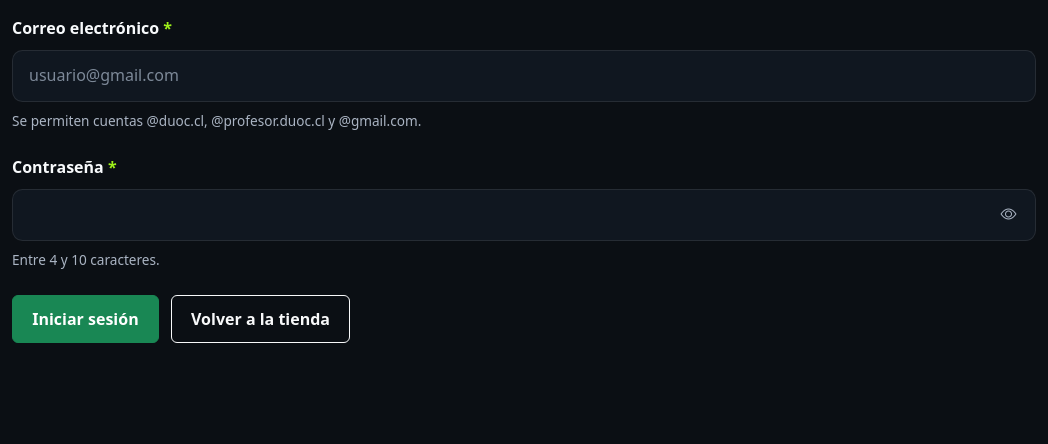
Test case: LoginForm › deshabilita el envío mientras se resuelve el acceso y evita solicitudes duplicadas
Type "camila@gmail.com" into the field labelled "Correo electrónico" at (524, 76), box [12,50,1036,102]
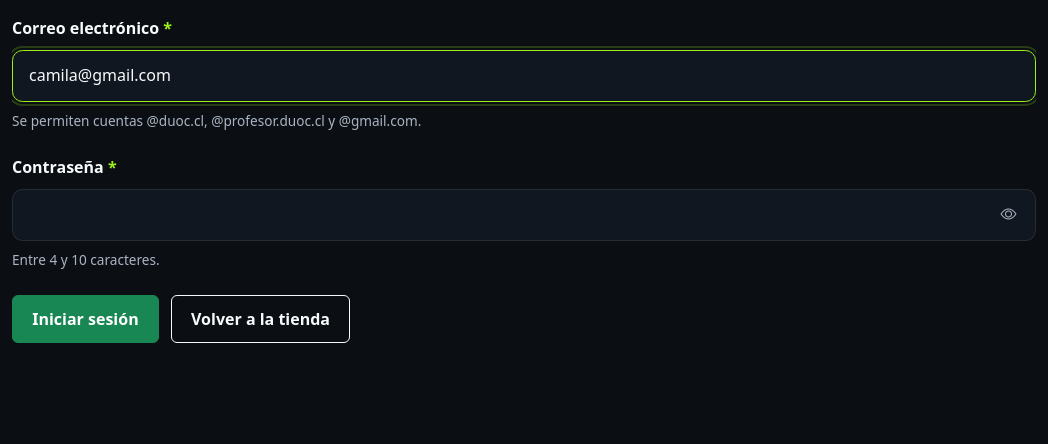
Type "1234" into the password field labelled "Contraseña *" at (524, 215), box [12,189,1036,241]
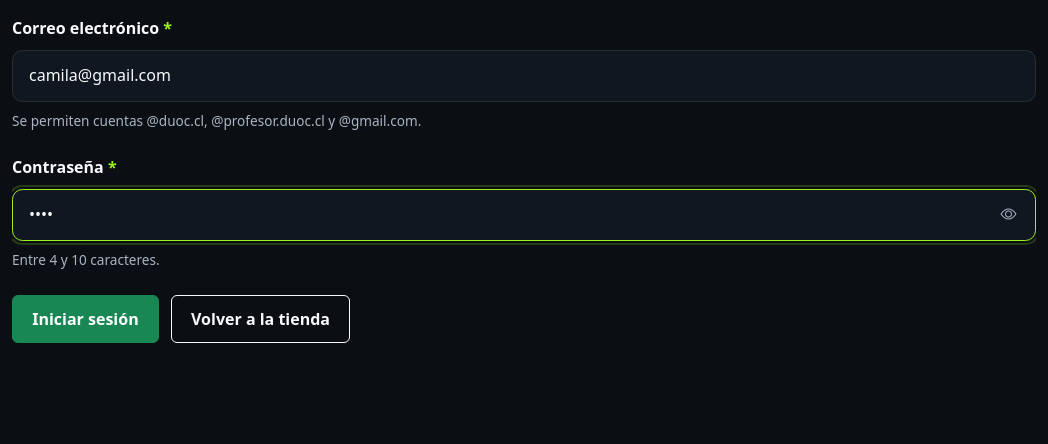
Click the button "Iniciar sesión" at (85, 319), box [12,295,159,343]
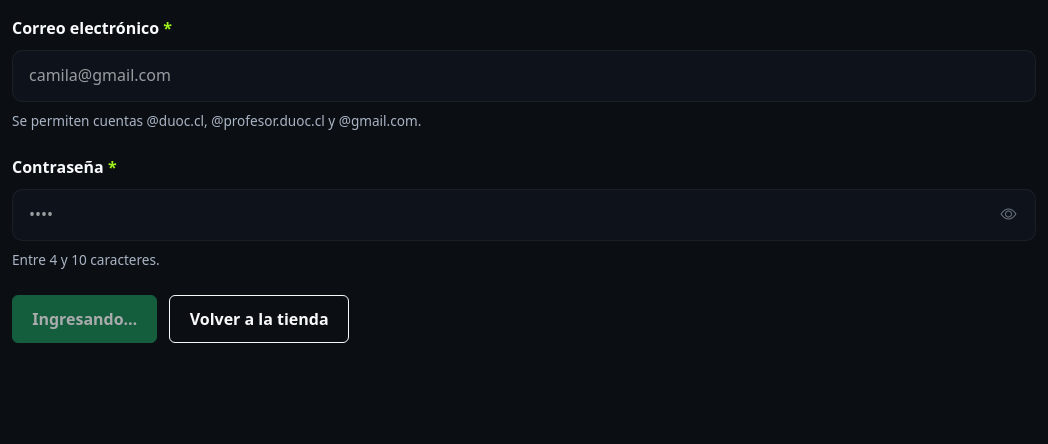
Expected: the button "Ingresando…" is disabled
Click the button "Ingresando…" at (85, 319), box [12,295,158,343]
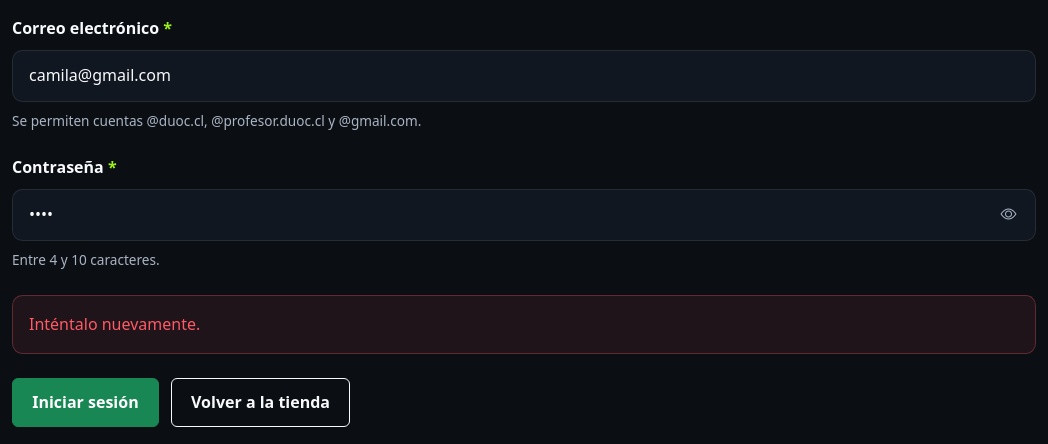
Expected: the button "Iniciar sesión" is enabled, [12,378,159,427]
Expected: the message reads "Inténtalo nuevamente.", [29,313,200,335]
